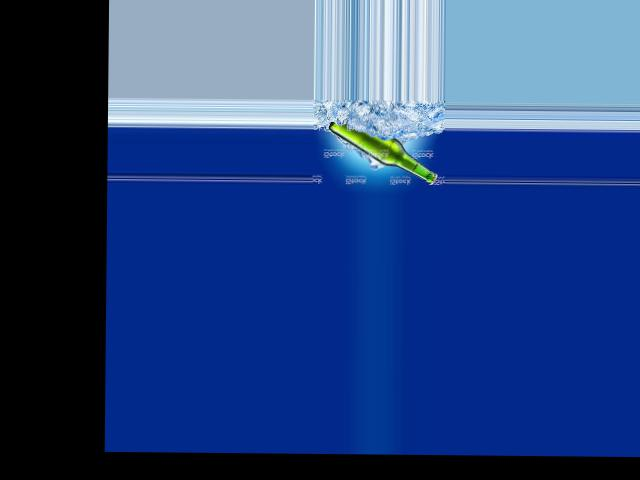beer: (328, 121, 439, 185)
